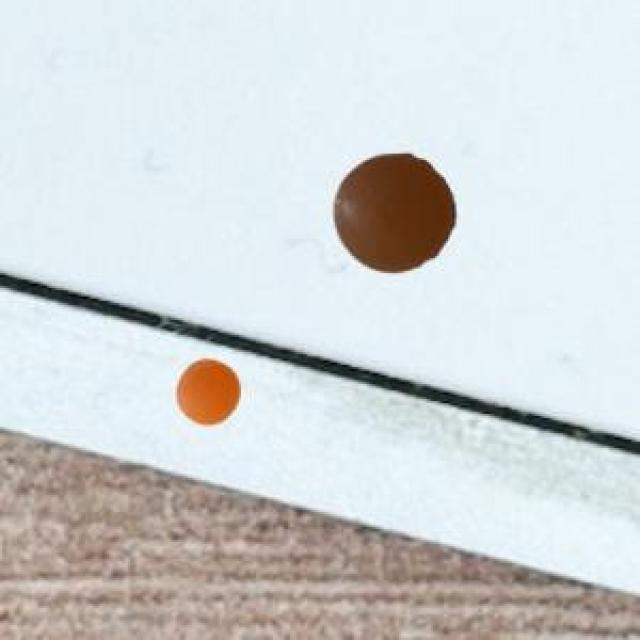Bactidol: (311, 141, 468, 294), (163, 348, 247, 443)
